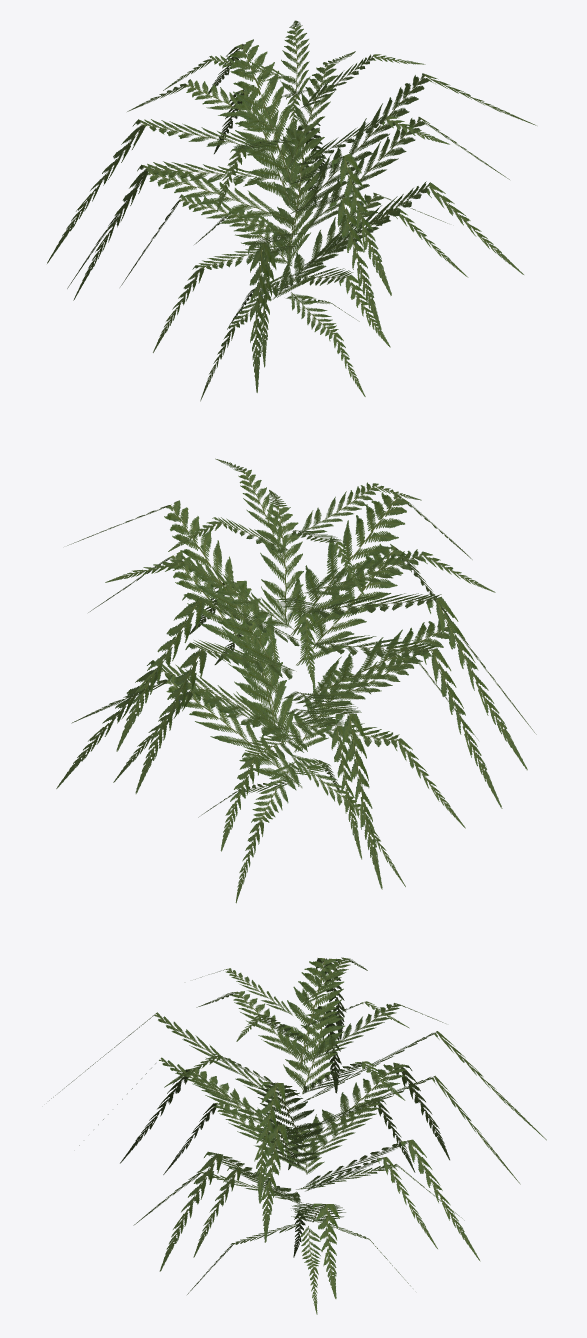
File: Fern.fbx
3 views of the same model, one above another, from view 1: azimuth 30°, elevation 25°; view 2: azimuth 150°, elevation 25°; view 3: azimuth 270°, elevation 25° (orthographic). The views are drawn at different scales.
Parts seen in each view (by area): view 1: TexturesCom_Branches0030_1_S.006; view 2: TexturesCom_Branches0030_1_S.006; view 3: TexturesCom_Branches0030_1_S.006.
Part boxes in pixels (bbox=[...]): TexturesCom_Branches0030_1_S.006: bbox=[47, 20, 536, 401]; TexturesCom_Branches0030_1_S.006: bbox=[56, 458, 536, 903]; TexturesCom_Branches0030_1_S.006: bbox=[49, 957, 546, 1314].
Bounding box in the file's own units: 59.75 × 38.37 × 57.75.
Materials: 1 (1 with a texture image).
